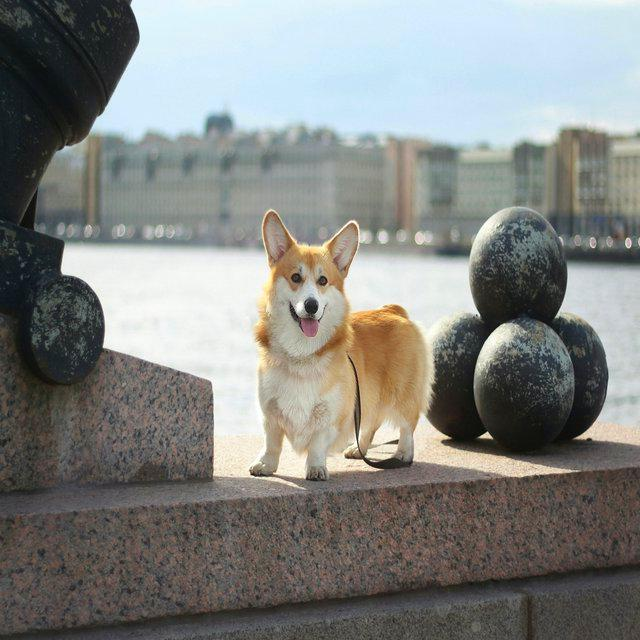corgi: (249, 208, 435, 481)
